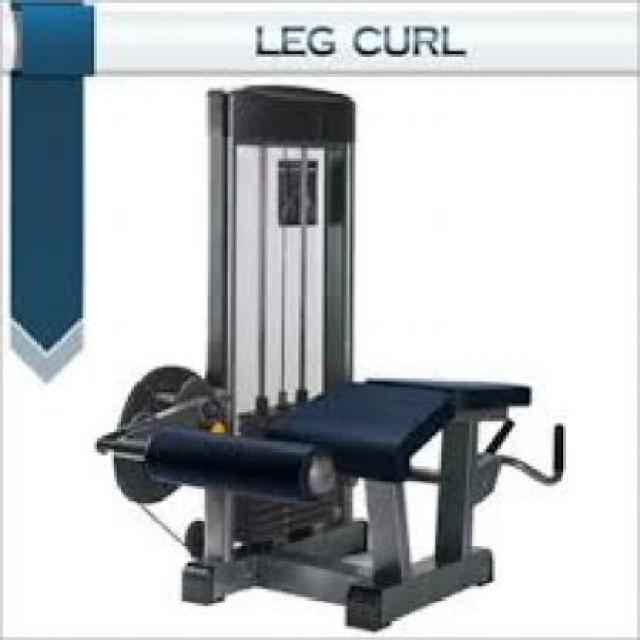reg curl machine: (94, 83, 569, 629)
